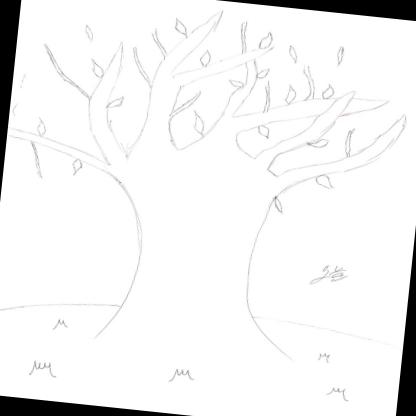branch_sharp: (4, 0, 416, 214)
root_none: (64, 282, 312, 374)
trunk_reflex: (98, 184, 278, 302)
